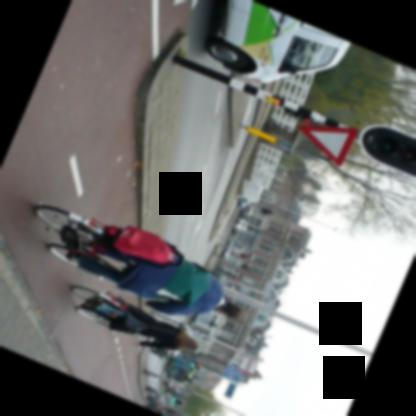backpack: (110, 225, 175, 264)
handbag: (106, 313, 178, 336)
